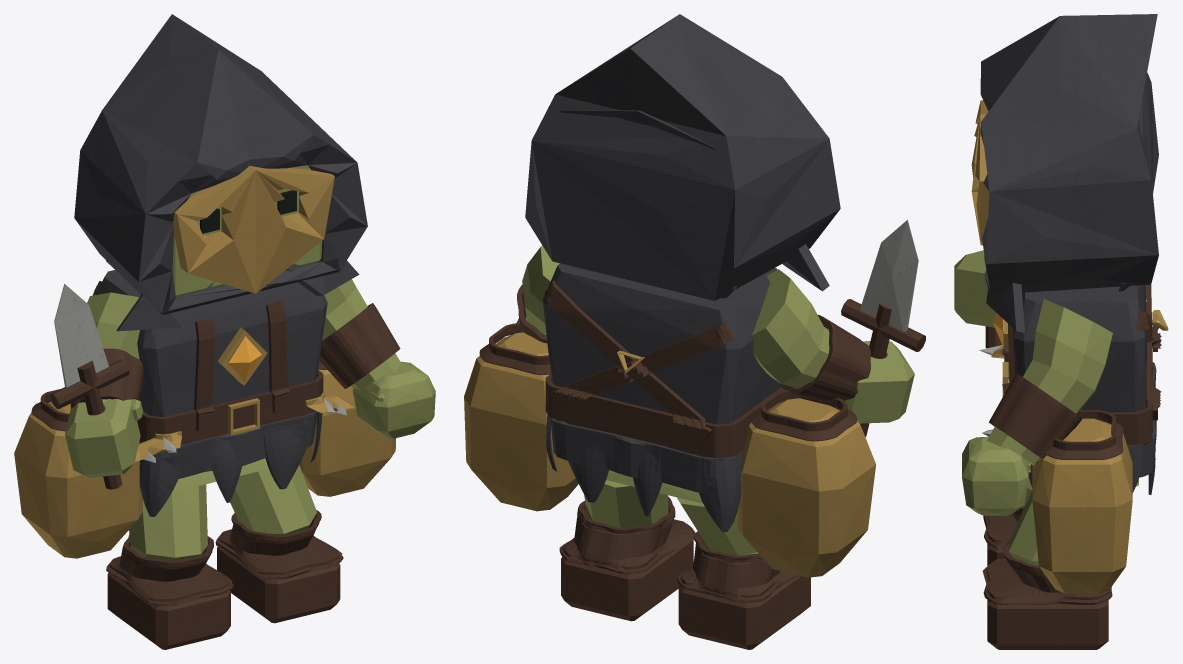
The model's file is host_16.glb.
3 renders of one model, left to right at view 1: azimuth 30°, elevation 25°; view 2: azimuth 150°, elevation 25°; view 3: azimuth 270°, elevation 25°, orthographic. The views are drawn at different scales.
Parts seen in each view (by area): view 1: Pointed brown hood - hollow outer cloth, Actual gold tapered mask with open eyes, Source connected torso mass, Exactly two gold hip coin bags 1, Exactly two gold hip coin bags -1, RIGHT source planted boot, RIGHT real compact source grasp source compact planar grasp, LEFT source planted boot, RIGHT source planted boot tall brown upper cuff, LEFT source planted boot tall brown upper cuff, LEFT compact curled source fist, RIGHT source short joined leg (+24 smaller); view 2: Pointed brown hood - hollow outer cloth, Source connected torso mass, Exactly two gold hip coin bags 1, Exactly two gold hip coin bags -1, Source broad continuous brown waist belt, RIGHT full actual connected arm, RIGHT source planted boot, LEFT source planted boot, LEFT source planted boot tall brown upper cuff, Source fitted ragged hem, RIGHT source planted boot tall brown upper cuff, RIGHT thick raised spine dagger blade (+16 smaller); view 3: Pointed brown hood - hollow outer cloth, Exactly two gold hip coin bags -1, Source connected torso mass, LEFT full actual connected arm, LEFT source planted boot, LEFT compact curled source fist, LEFT fitted source hollow leather bracer, LEFT source planted boot tall brown upper cuff, RIGHT real compact source grasp source compact planar grasp, Gold purse angular neck -1, Actual gold tapered mask with open eyes, LEFT source short joined leg (+8 smaller).
Part boxes in pixels (box(x1,y1,x2,y2)): Pointed brown hood - hollow outer cloth: box(74, 14, 367, 314); Actual gold tapered mask with open eyes: box(173, 166, 334, 293); Source connected torso mass: box(96, 270, 327, 445); Exactly two gold hip coin bags 1: box(14, 401, 142, 558); Exactly two gold hip coin bags -1: box(299, 369, 396, 496); RIGHT source planted boot: box(107, 573, 230, 649); RIGHT real compact source grasp source compact planar grasp: box(65, 398, 143, 477); LEFT source planted boot: box(217, 546, 340, 623); RIGHT source planted boot tall brown upper cuff: box(106, 535, 233, 606); LEFT source planted boot tall brown upper cuff: box(215, 510, 343, 579); LEFT compact curled source fist: box(352, 361, 435, 438); RIGHT source short joined leg: box(129, 484, 207, 560); Pointed brown hood - hollow outer cloth: box(525, 14, 840, 300); Source connected torso mass: box(542, 263, 780, 457); Exactly two gold hip coin bags 1: box(737, 398, 875, 577); Exactly two gold hip coin bags -1: box(464, 332, 578, 511); Source broad continuous brown waist belt: box(545, 374, 785, 458); RIGHT full actual connected arm: box(752, 269, 829, 388); RIGHT source planted boot: box(678, 575, 810, 649); LEFT source planted boot: box(561, 540, 693, 621); LEFT source planted boot tall brown upper cuff: box(559, 496, 695, 574); Source fitted ragged hem: box(550, 417, 743, 492); RIGHT source planted boot tall brown upper cuff: box(677, 531, 798, 602); RIGHT thick raised spine dagger blade: box(860, 219, 918, 331); Pointed brown hood - hollow outer cloth: box(980, 14, 1158, 294); Exactly two gold hip coin bags -1: box(1032, 418, 1132, 593); Source connected torso mass: box(1013, 285, 1146, 412); LEFT full actual connected arm: box(987, 299, 1112, 465); LEFT source planted boot: box(987, 600, 1108, 649); LEFT compact curled source fist: box(962, 436, 1030, 515); LEFT fitted source hollow leather bracer: box(989, 373, 1082, 459); LEFT source planted boot tall brown upper cuff: box(982, 537, 1112, 605); RIGHT real compact source grasp source compact planar grasp: box(954, 250, 996, 327); Gold purse angular neck -1: box(1045, 409, 1123, 459); Actual gold tapered mask with open eyes: box(971, 100, 989, 245); LEFT source short joined leg: box(1008, 491, 1038, 565).
Bounding box in the file's own units: 1.08 × 1.55 × 0.5076.
8 materials, 6 textured.
